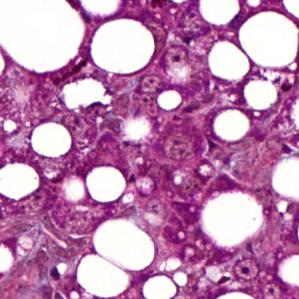steatosis: (90, 17, 154, 77), (206, 38, 250, 83), (83, 162, 131, 203), (213, 109, 248, 146)
